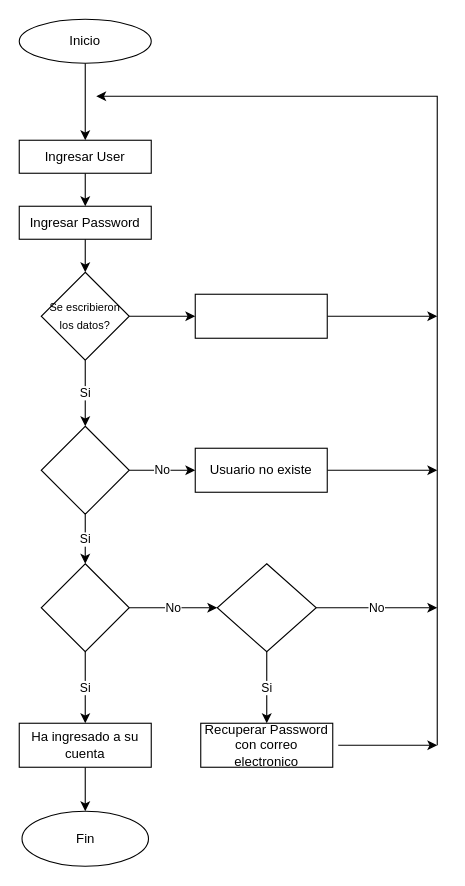
The diagram is 465 pixels wide and 886 high, and some of its shapes have lost their labels. Each missing label, with the centre of its shape:
"Escribe los datos de ingreso" goes at (x=260, y=315).
"Esta correcto el Password?" goes at (x=84, y=607).
"Esta correcto el User?" goes at (x=84, y=469).
"Olvido Su Password?" goes at (x=266, y=607).
